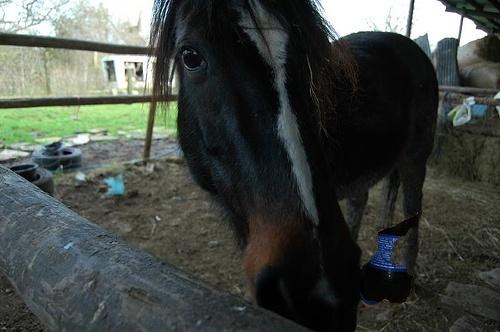tampered: (359, 213, 418, 307)
